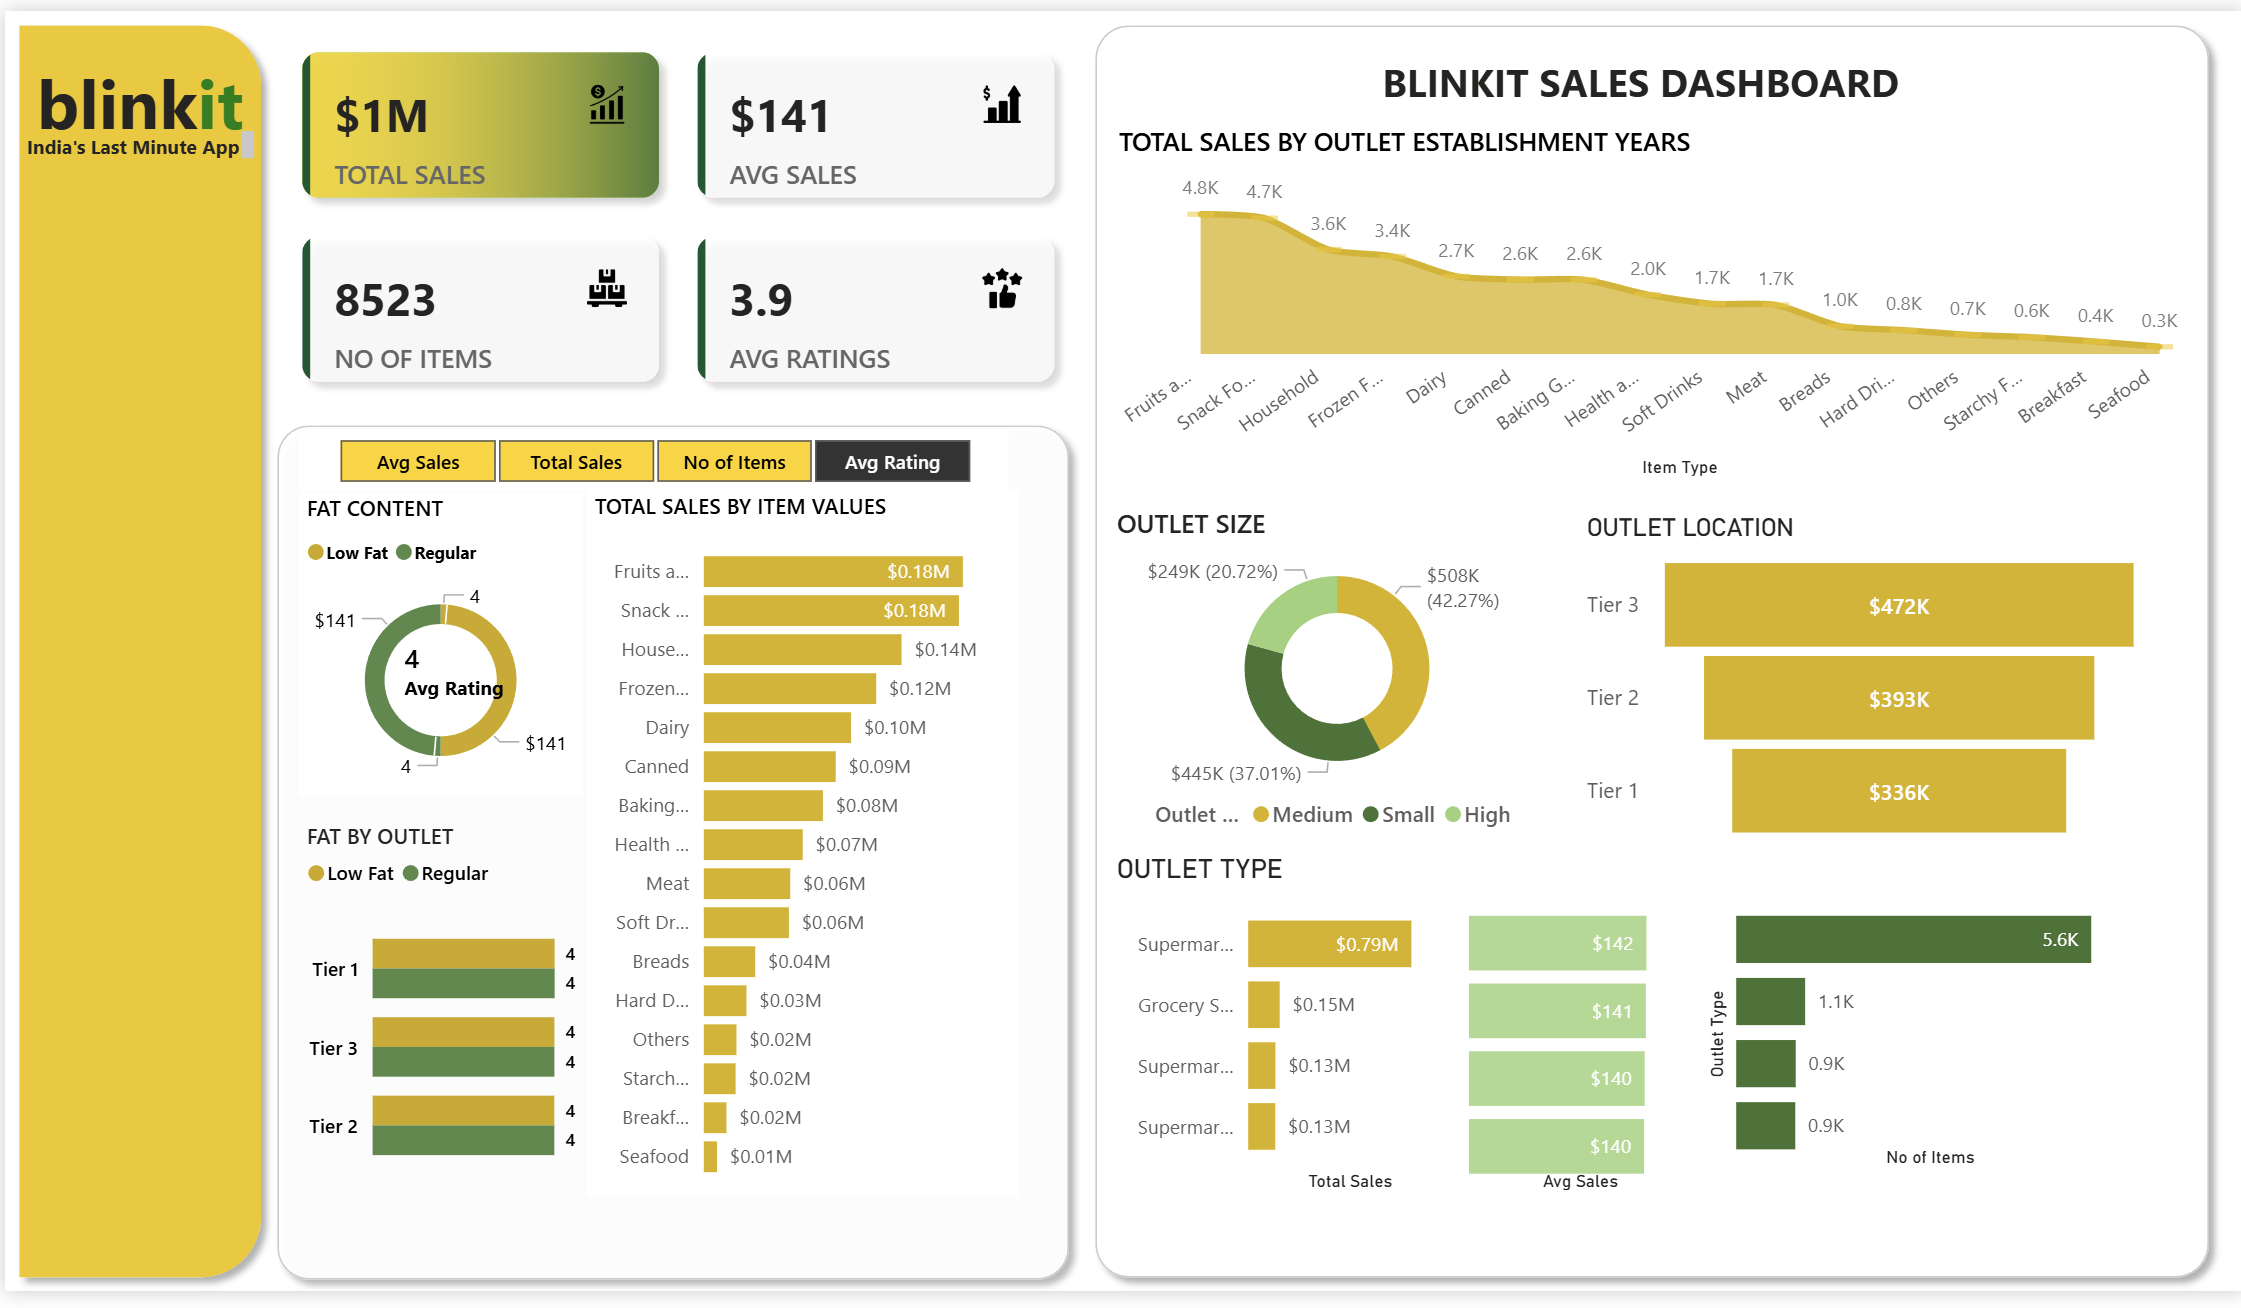

The dashboard page shown, as its layout file describes it:
{"tool":"powerbi","page":{"name":"Page 1","canvas":[1400,800],"ordinal":0},"visuals":[{"type":"shape","box":[0,0,169,800.4],"z":0},{"type":"textbox","box":[0,23,169,67],"z":1000},{"type":"textbox","box":[9,70,152,27],"z":2000},{"type":"shape","box":[672.1,0,714,800.6],"z":3000},{"type":"cardVisual","fields":{"Data":["BlinkIT Grocery Data.Total Sales","BlinkIT Grocery Data.Avg Sales","BlinkIT Grocery Data.No of Items","BlinkIT Grocery Data.Avg Rating"]},"box":[169.1,8.4,504.4,241.7],"z":4000},{"type":"shape","box":[160.7,250.1,512.8,551.9],"z":5000},{"type":"donutChart","title":"FAT CONTENT ","fields":{"Y":["BlinkIT Grocery Data.Avg Rating","BlinkIT Grocery Data.Avg Sales"],"Category":["Table1.Item Fat Content"]},"box":[184.1,301.2,177.1,189.6],"z":6000},{"type":"slicer","fields":{"Values":["Metrics.Metrics"]},"box":[183.5,261.5,443.6,39],"z":7000},{"type":"cardVisual","fields":{"Data":["BlinkIT Grocery Data.Avg Rating"]},"box":[232.6,364.1,145.9,96.8],"z":8000},{"type":"clusteredBarChart","title":"FAT BY OUTLET","fields":{"Y":["BlinkIT Grocery Data.Avg Rating"],"Category":["BlinkIT Grocery Data.Outlet Location Type"],"Series":["Table1.Item Fat Content"]},"box":[183.5,505.7,177.7,235.5],"z":9000},{"type":"clusteredBarChart","title":" TOTAL SALES BY ITEM VALUES","fields":{"Category":["BlinkIT Grocery Data.Item Type"],"Y":["BlinkIT Grocery Data.Total Sales"]},"box":[364.1,300.1,270,440.7],"z":10000},{"type":"areaChart","title":"TOTAL SALES BY OUTLET ESTABLISHMENT YEARS","fields":{"Y":["Sum(BlinkIT Grocery Data.Rating)"],"Category":["BlinkIT Grocery Data.Item Type"]},"box":[691.2,70.2,676.4,225.5],"z":11000},{"type":"donutChart","title":"OUTLET SIZE","fields":{"Category":["BlinkIT Grocery Data.Outlet Size"],"Y":["BlinkIT Grocery Data.Total Sales"]},"box":[690.6,308.9,285,212.2],"z":12000},{"type":"funnel","title":"OUTLET LOCATION ","fields":{"Y":["BlinkIT Grocery Data.Total Sales"],"Category":["BlinkIT Grocery Data.Outlet Location Type"]},"box":[983.1,313.9,356.6,212.2],"z":13000},{"type":"clusteredBarChart","title":"OUTLET TYPE","fields":{"Y":["BlinkIT Grocery Data.Total Sales"],"Category":["BlinkIT Grocery Data.Outlet Type"]},"box":[690.6,526.1,219.7,216],"z":14000},{"type":"clusteredBarChart","fields":{"Y":["BlinkIT Grocery Data.Avg Sales"],"Category":["BlinkIT Grocery Data.Outlet Type"]},"box":[910.3,552.5,149.4,189.6],"z":15000},{"type":"clusteredBarChart","fields":{"Y":["BlinkIT Grocery Data.No of Items"],"Category":["BlinkIT Grocery Data.Outlet Type"]},"box":[1059.7,552.5,270,174.5],"z":16000},{"type":"textbox","box":[712.8,23,626.4,47.3],"z":17000}]}

Visuals, with their boxes in screenshot pixels (x1, y1, x2, y2), scaled from the page's 1400x800 canvas onto the 2241x1308 screenshot:
shape: left=0, top=0, right=271, bottom=1307
textbox: left=0, top=38, right=271, bottom=147
textbox: left=14, top=114, right=258, bottom=159
shape: left=1076, top=0, right=2219, bottom=1307
cardVisual - BlinkIT Grocery Data.Total Sales x BlinkIT Grocery Data.Avg Sales: left=271, top=14, right=1078, bottom=409
shape: left=257, top=409, right=1078, bottom=1307
"FAT CONTENT " donutChart: left=295, top=492, right=578, bottom=802
slicer - Metrics.Metrics: left=294, top=428, right=1004, bottom=491
cardVisual - BlinkIT Grocery Data.Avg Rating: left=372, top=595, right=606, bottom=754
"FAT BY OUTLET" clusteredBarChart: left=294, top=827, right=578, bottom=1212
" TOTAL SALES BY ITEM VALUES" clusteredBarChart: left=583, top=491, right=1015, bottom=1211
"TOTAL SALES BY OUTLET ESTABLISHMENT YEARS" areaChart: left=1106, top=115, right=2189, bottom=483
"OUTLET SIZE" donutChart: left=1105, top=505, right=1562, bottom=852
"OUTLET LOCATION " funnel: left=1574, top=513, right=2144, bottom=860
"OUTLET TYPE" clusteredBarChart: left=1105, top=860, right=1457, bottom=1213
clusteredBarChart - BlinkIT Grocery Data.Avg Sales x BlinkIT Grocery Data.Outlet Type: left=1457, top=903, right=1696, bottom=1213
clusteredBarChart - BlinkIT Grocery Data.No of Items x BlinkIT Grocery Data.Outlet Type: left=1696, top=903, right=2128, bottom=1189
textbox: left=1141, top=38, right=2144, bottom=115
